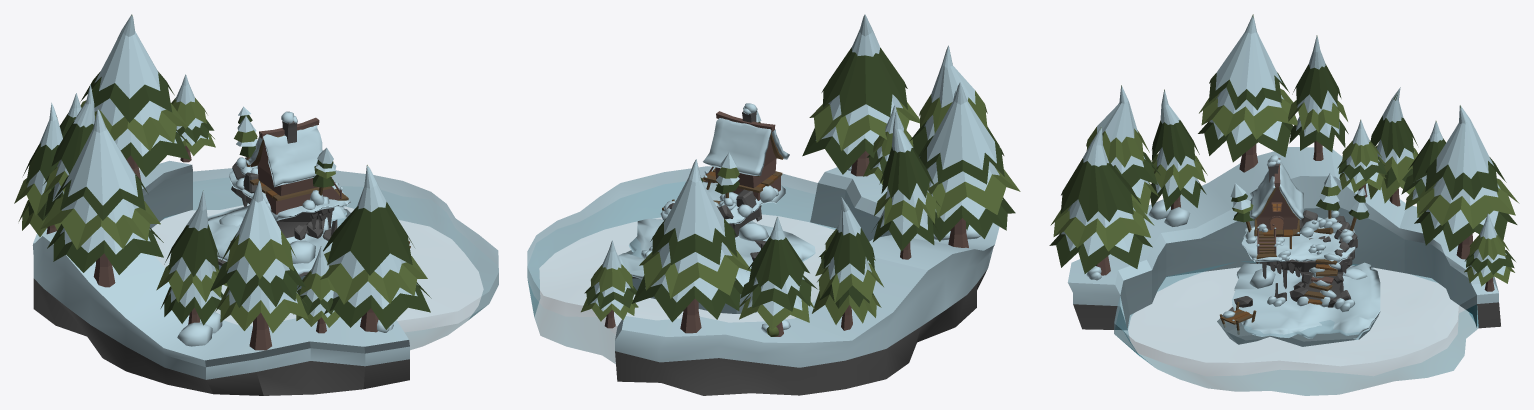
The model's file is snowbg.gltf.
The picture shows the model from 3 angles, left to right: view 1: azimuth 30°, elevation 25°; view 2: azimuth 150°, elevation 25°; view 3: azimuth 270°, elevation 25°; orthographic projection. The views are drawn at different scales.
Visible parts, largest first — view 1: frozen_lake, Cone.003, Cone.002, Cone.006, Cone.010, Cone.001, Cone.000, pCube89, Cone.007, Cone.009, bottom_snow, Cone.008 (+7 smaller); view 2: frozen_lake, Cone.006, Cone.003, Cone.002, Cone.007, Cone.000, Cone.004, Cone.010, pCube88, Cone.008, bottom_snow, Cone.009 (+5 smaller); view 3: frozen_lake, Cone.002, Cone.003, Cone.006, bottom_snow, Cone.001, Cone.007, Cone.010, Cone.000, Cone.008, Cone.005, top_snow (+7 smaller).
Part boxes in pixels (x1=…): frozen_lake: x1=32, y1=160, x2=498, y2=395; Cone.003: x1=40, y1=108, x2=163, y2=274; Cone.002: x1=320, y1=165, x2=431, y2=329; Cone.006: x1=80, y1=14, x2=190, y2=176; Cone.010: x1=210, y1=180, x2=308, y2=332; Cone.001: x1=156, y1=190, x2=227, y2=325; Cone.000: x1=14, y1=102, x2=62, y2=236; pCube89: x1=260, y1=125, x2=322, y2=187; Cone.007: x1=43, y1=84, x2=94, y2=216; Cone.009: x1=293, y1=246, x2=339, y2=327; bottom_snow: x1=207, y1=205, x2=346, y2=274; Cone.008: x1=171, y1=74, x2=215, y2=155; frozen_lake: x1=527, y1=166, x2=999, y2=395; Cone.006: x1=631, y1=159, x2=750, y2=322; Cone.003: x1=919, y1=82, x2=1020, y2=241; Cone.002: x1=802, y1=14, x2=919, y2=174; Cone.007: x1=873, y1=111, x2=940, y2=251; Cone.000: x1=812, y1=197, x2=883, y2=324; Cone.004: x1=739, y1=216, x2=817, y2=329; Cone.010: x1=909, y1=45, x2=999, y2=157; pCube88: x1=703, y1=118, x2=771, y2=175; Cone.008: x1=581, y1=240, x2=638, y2=321; bottom_snow: x1=618, y1=218, x2=815, y2=295; Cone.009: x1=863, y1=105, x2=913, y2=184; frozen_lake: x1=1067, y1=147, x2=1500, y2=395; Cone.002: x1=1049, y1=126, x2=1154, y2=273; Cone.003: x1=1198, y1=14, x2=1299, y2=162; Cone.006: x1=1414, y1=105, x2=1519, y2=251; bottom_snow: x1=1232, y1=262, x2=1380, y2=339; Cone.001: x1=1150, y1=89, x2=1207, y2=211; Cone.007: x1=1286, y1=35, x2=1348, y2=152; Cone.010: x1=1086, y1=85, x2=1160, y2=214; Cone.000: x1=1366, y1=87, x2=1418, y2=203; Cone.008: x1=1464, y1=213, x2=1515, y2=286; Cone.005: x1=1337, y1=119, x2=1387, y2=192; top_snow: x1=1241, y1=226, x2=1355, y2=263.
Bounding box in the file's own units: 6.39 × 3.58 × 6.85.
